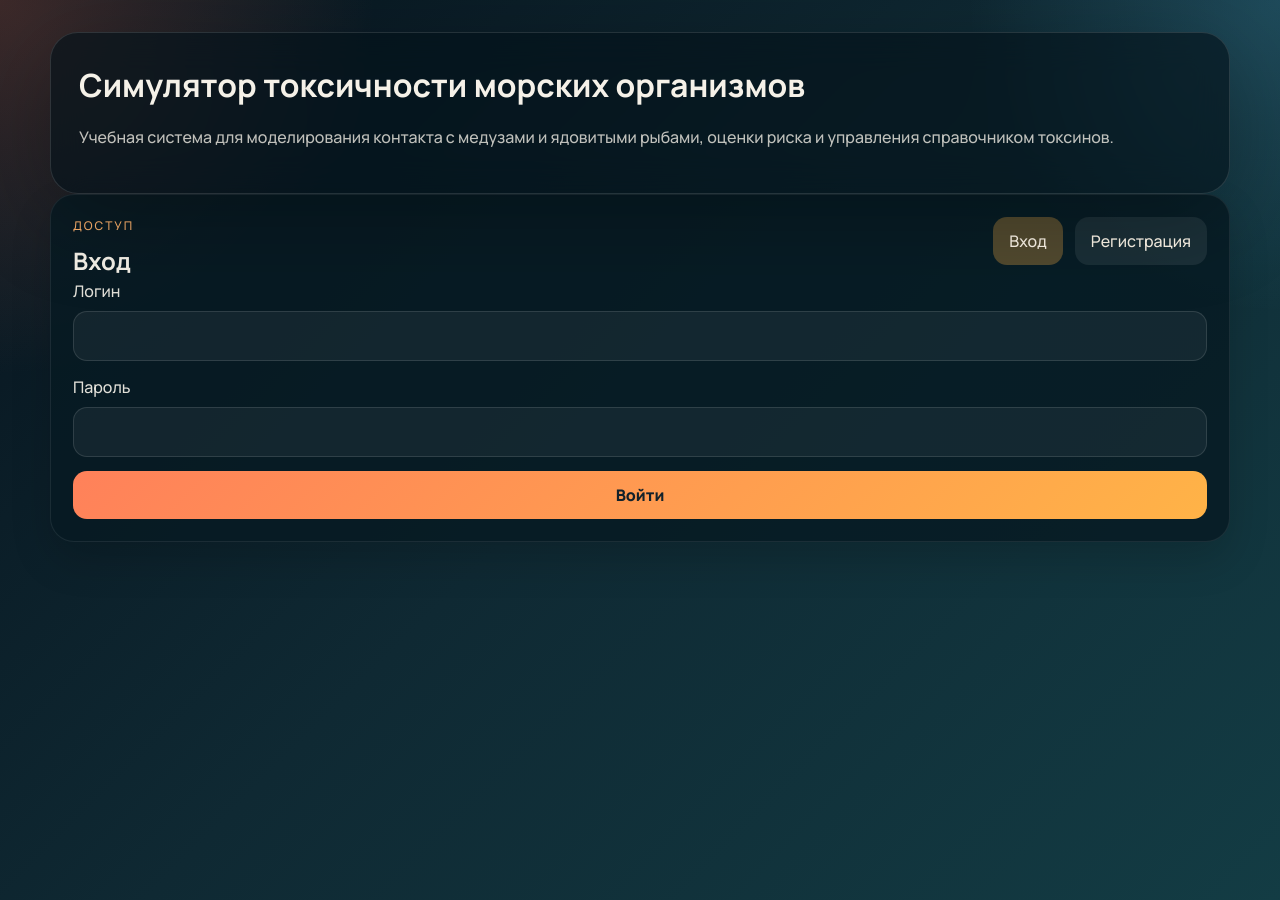
it: App › shows auth error on login failure
In the field labelled "Логин": [640, 336] box [73,311,1207,361], type "user"
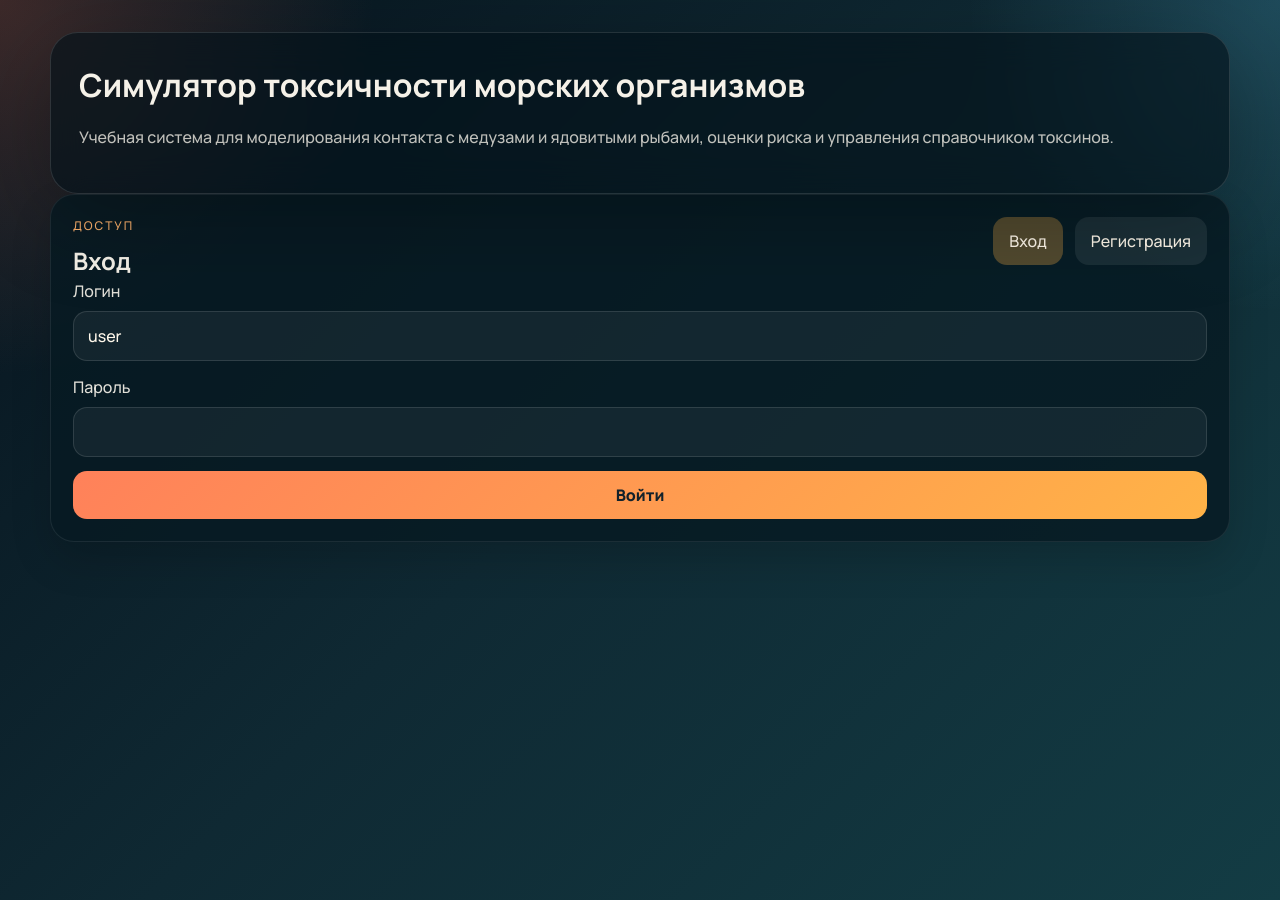
In the password field labelled "Пароль": [640, 432] box [73,407,1207,457], type "bad"
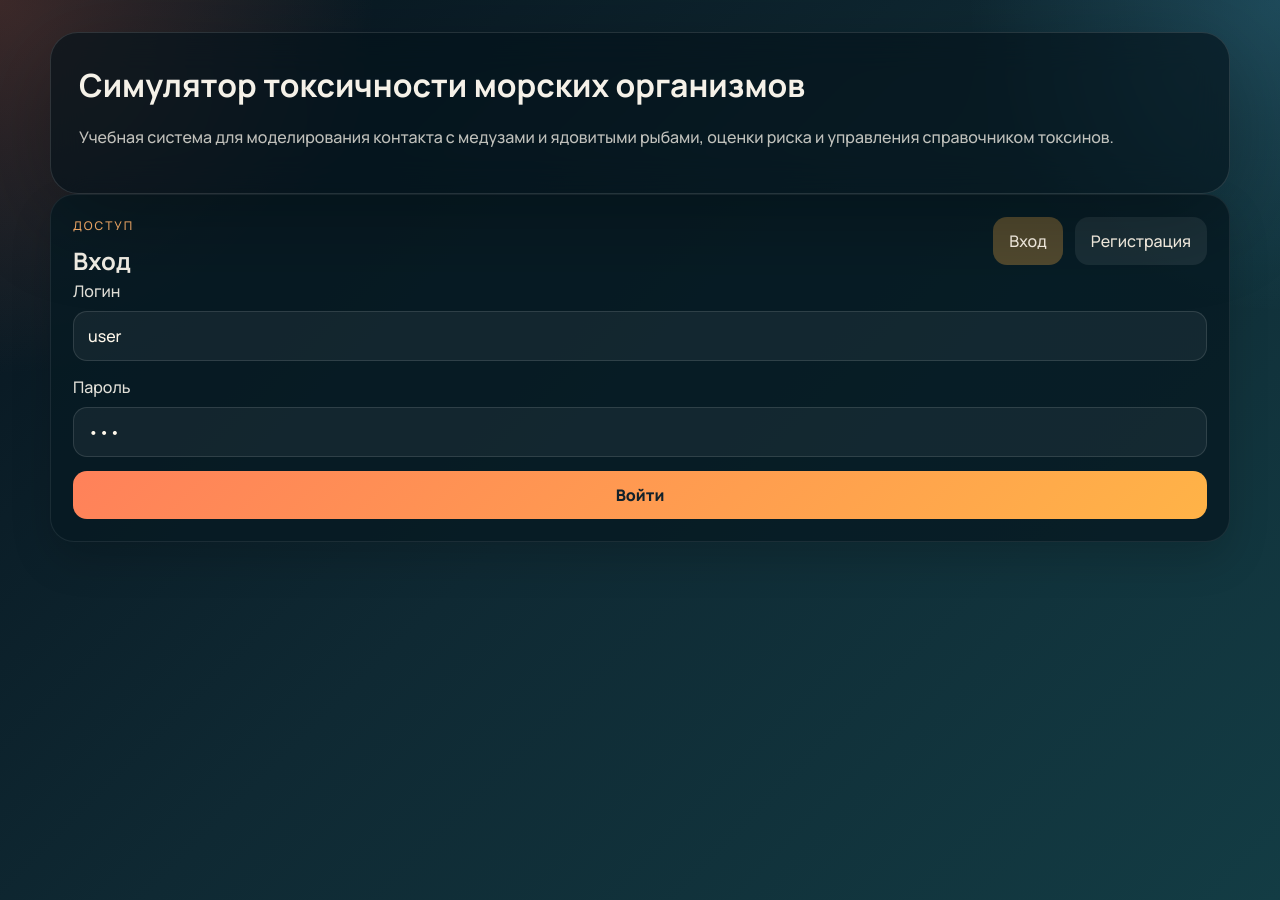
Click the button "Войти": [640, 495] box [73,471,1207,519]
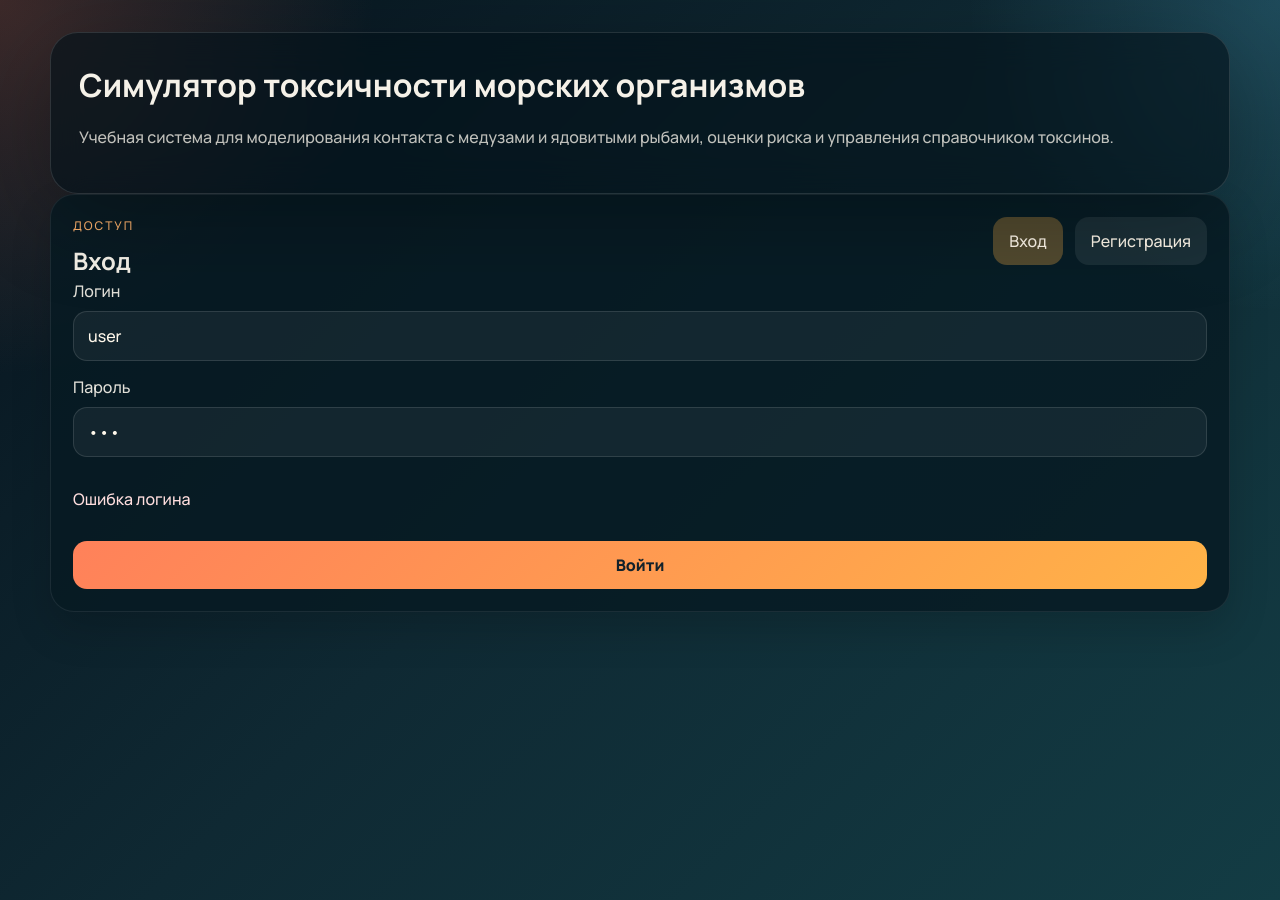
Now the text "Ошибка логина" is shown, box [73,488,190,510]
